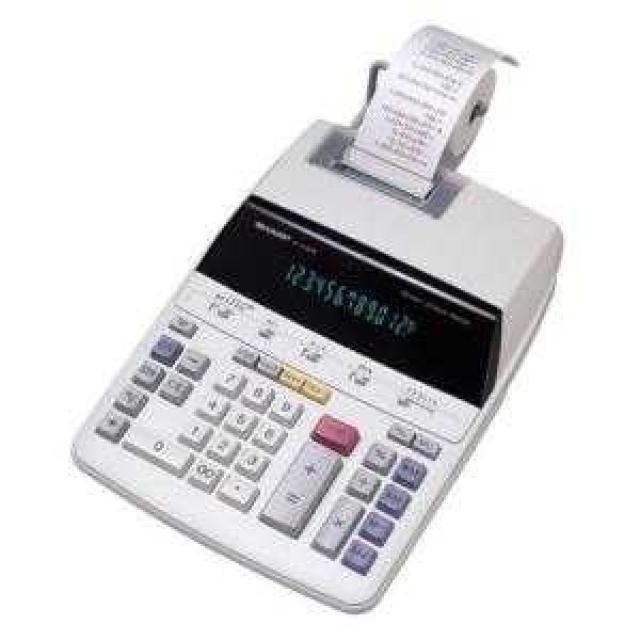Calculator: (85, 122, 553, 578)
